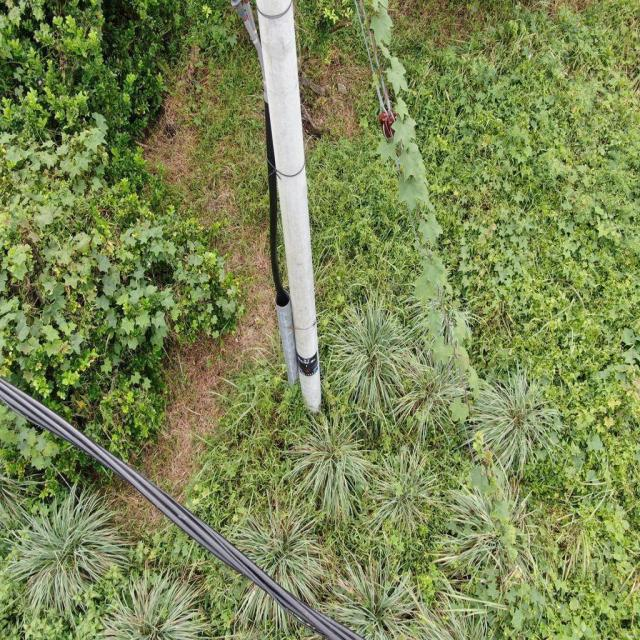critical vegetation: (354, 12, 524, 540)
